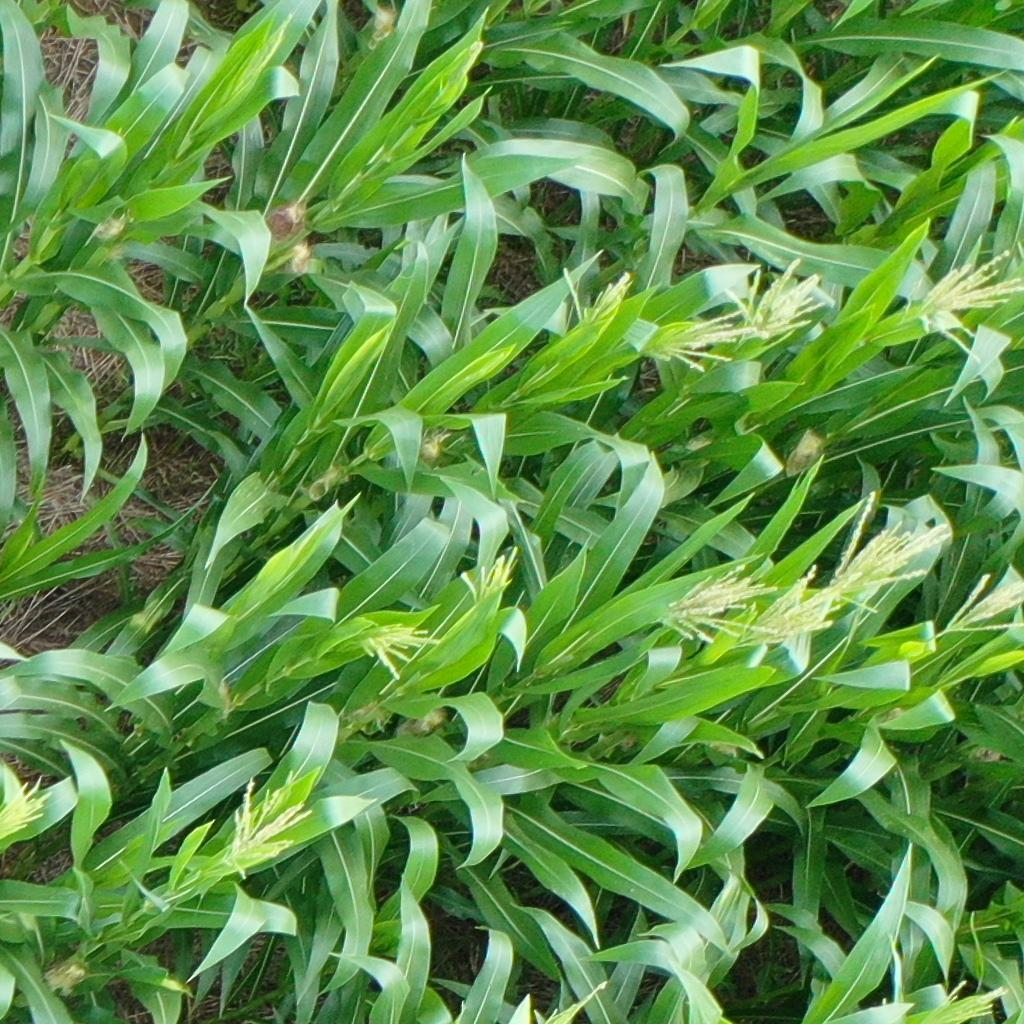Tassel: (831, 489, 953, 613), (903, 246, 1024, 365), (653, 563, 778, 649), (221, 773, 311, 878), (723, 258, 827, 344), (746, 564, 859, 638), (647, 308, 759, 379), (943, 567, 1024, 638), (348, 620, 437, 679), (552, 260, 628, 328), (912, 977, 1010, 1024), (452, 546, 521, 601), (1, 773, 49, 844), (536, 979, 611, 1024)
